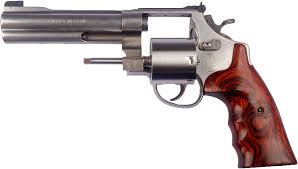gun: (1, 2, 298, 165)
